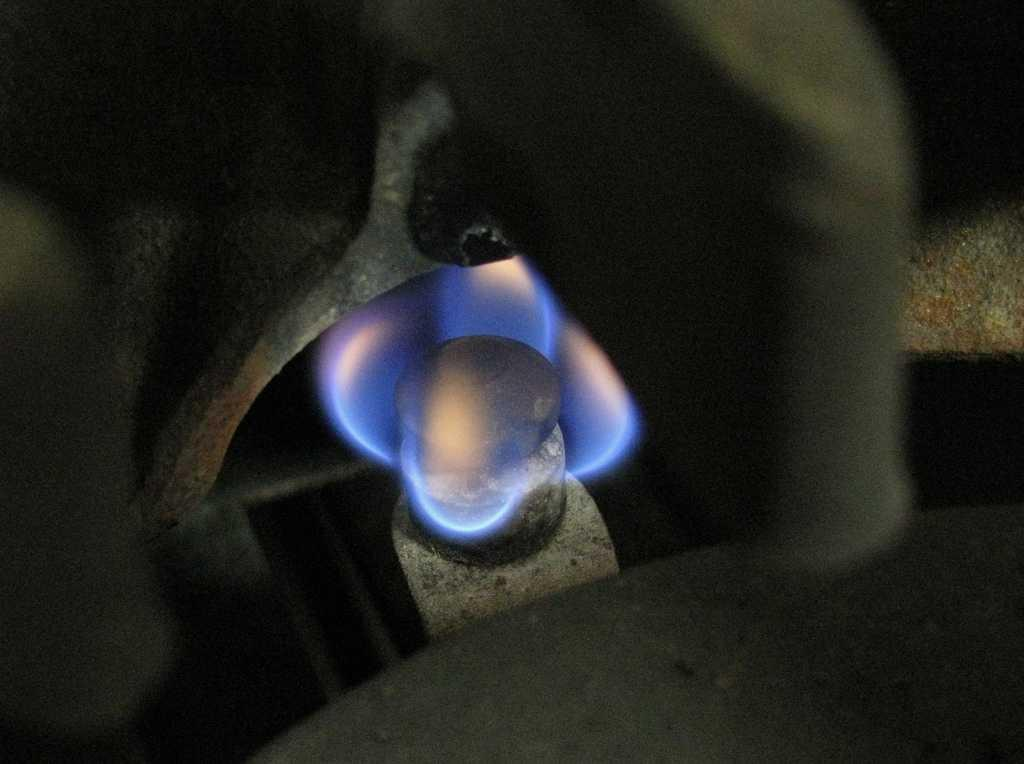fire: (552, 344, 636, 462), (340, 310, 414, 440), (436, 448, 512, 544), (462, 268, 542, 330)
